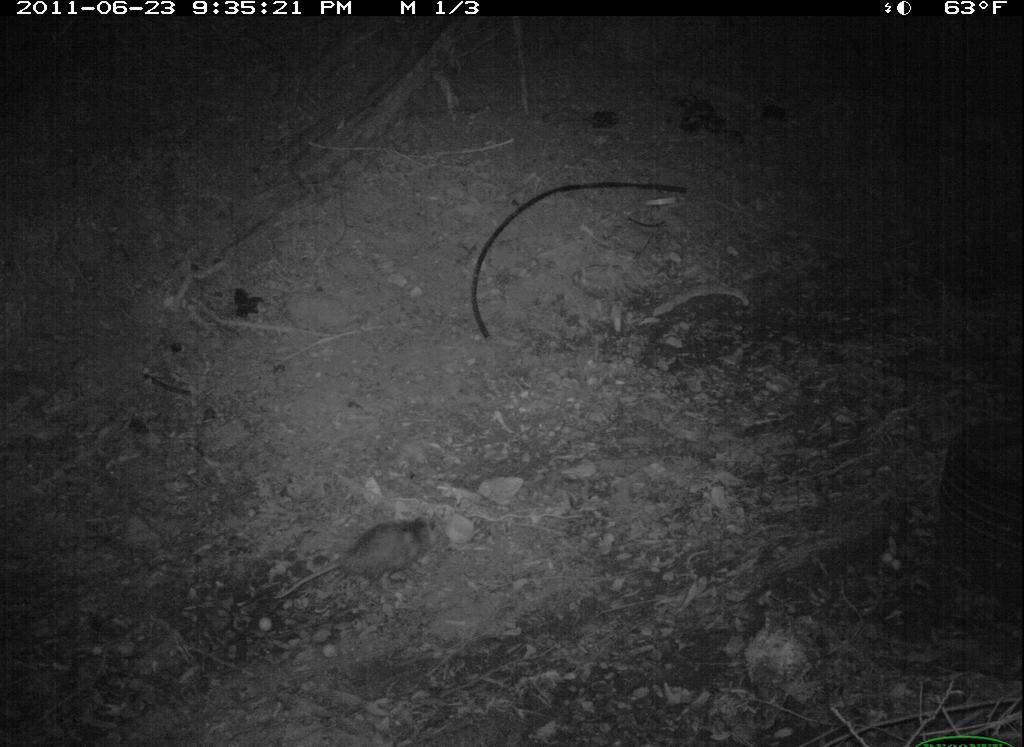opossum: (271, 513, 445, 612)
